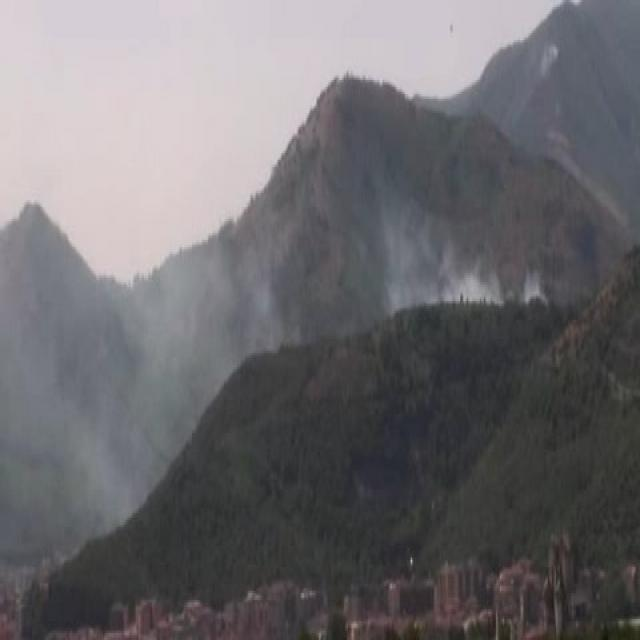smoke: (122, 263, 272, 413), (388, 243, 543, 313)
